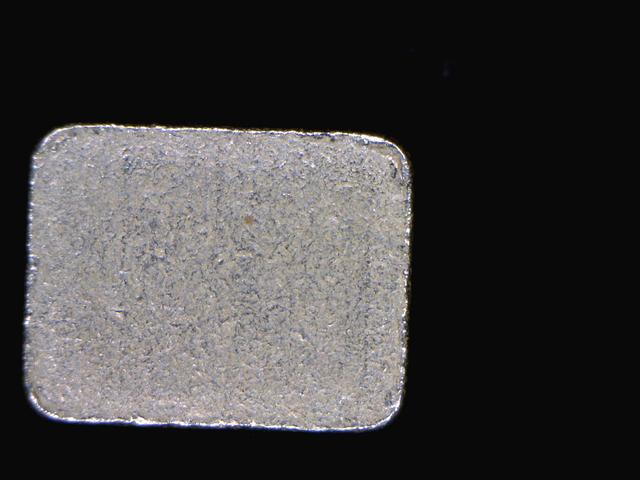ok: (21, 117, 416, 431)
